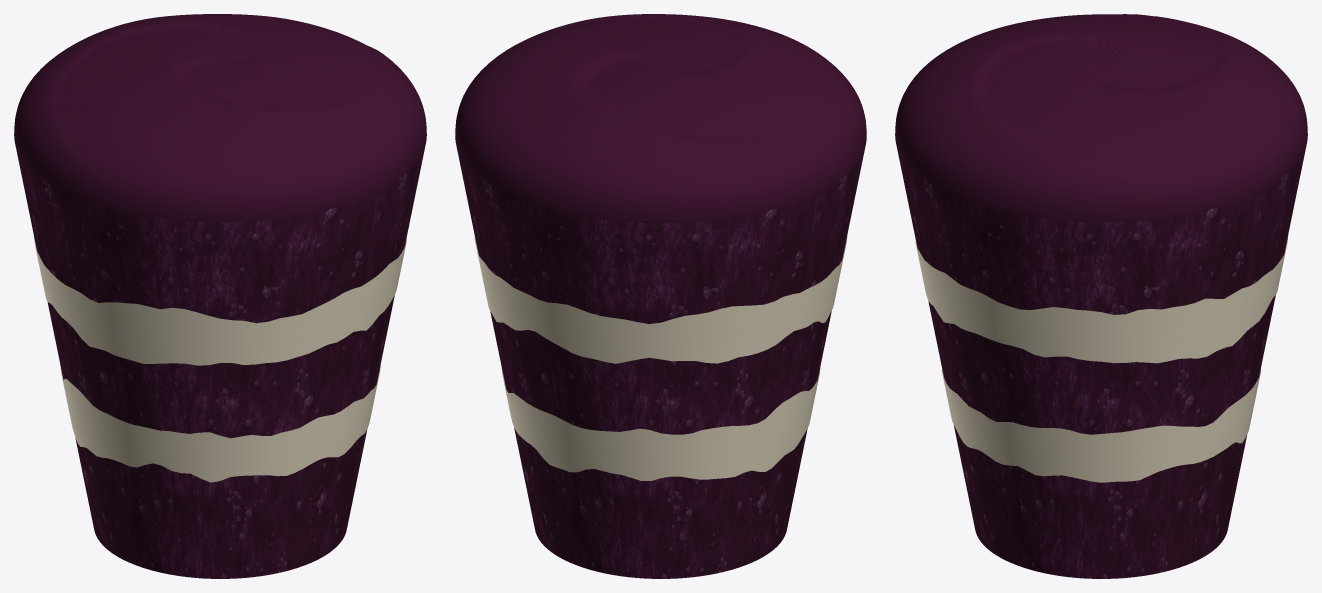
File: base-acai-copo-400.glb
3 views of the same model, side by side, from view 1: azimuth 30°, elevation 25°; view 2: azimuth 150°, elevation 25°; view 3: azimuth 270°, elevation 25° (orthographic).
Parts seen in each view (by area): view 1: base-acai-copo-400, base-acai-copo-400-camada-2, base-acai-copo-400-camada-1; view 2: base-acai-copo-400, base-acai-copo-400-camada-2, base-acai-copo-400-camada-1; view 3: base-acai-copo-400, base-acai-copo-400-camada-2, base-acai-copo-400-camada-1.
Part boxes in pixels (left/top/right/bottom): base-acai-copo-400: left=14, top=14, right=426, bottom=578; base-acai-copo-400-camada-2: left=34, top=237, right=406, bottom=365; base-acai-copo-400-camada-1: left=60, top=365, right=380, bottom=482; base-acai-copo-400: left=455, top=14, right=866, bottom=578; base-acai-copo-400-camada-2: left=474, top=236, right=847, bottom=363; base-acai-copo-400-camada-1: left=501, top=368, right=820, bottom=480; base-acai-copo-400: left=895, top=14, right=1307, bottom=578; base-acai-copo-400-camada-2: left=915, top=235, right=1288, bottom=363; base-acai-copo-400-camada-1: left=941, top=368, right=1260, bottom=482.
Bounding box in the file's own units: 0.092 × 0.1146 × 0.092.
3 materials, 1 textured.
